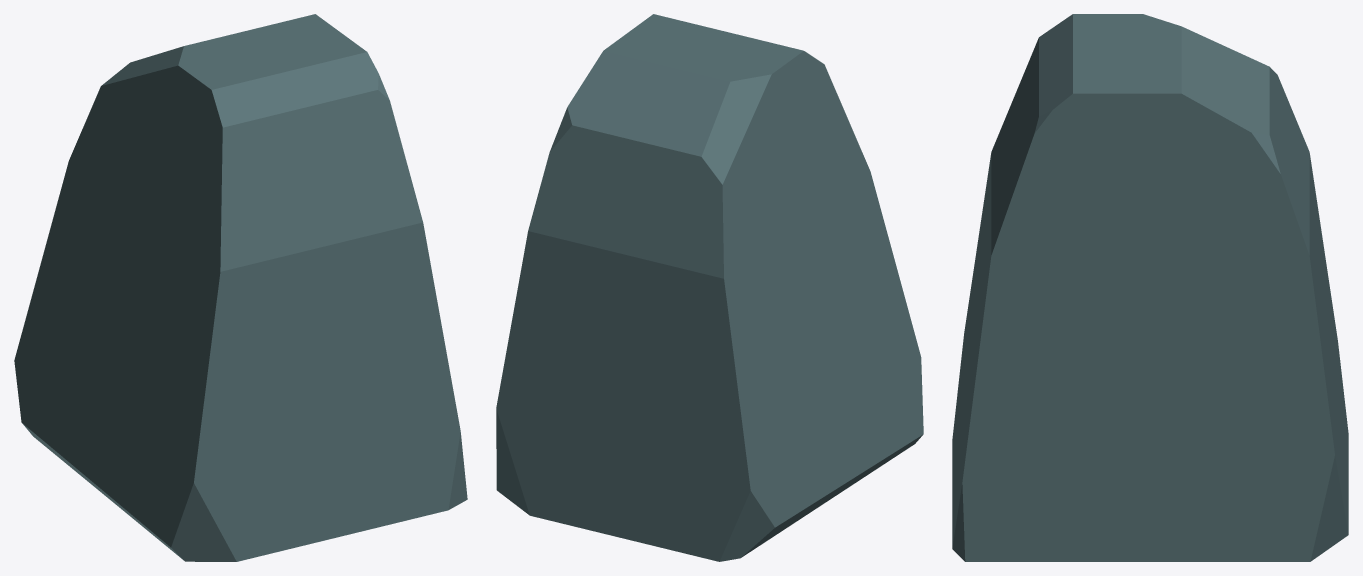
The model's file is brigesCube_010.fbx.
The picture shows the model from 3 angles, left to right: view 1: azimuth 30°, elevation 25°; view 2: azimuth 150°, elevation 25°; view 3: azimuth 270°, elevation 25°; orthographic projection. The views are drawn at different scales.
Visible parts, largest first — view 1: Cube.010; view 2: Cube.010; view 3: Cube.010.
Boxes of the visible parts, left/top/right/bottom form: Cube.010: left=14, top=14, right=467, bottom=561; Cube.010: left=496, top=14, right=923, bottom=561; Cube.010: left=952, top=14, right=1348, bottom=561.
Size of the model in its own units: 69.31 by 97.4 by 78.98.
